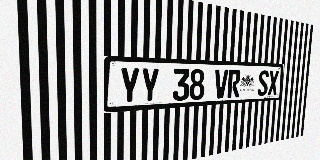3: (173, 68, 190, 101)
8: (189, 69, 205, 100)
R: (227, 70, 241, 98)
S: (257, 70, 269, 96)
V: (214, 69, 228, 99)
X: (268, 70, 279, 95)
Y: (119, 67, 140, 104), (140, 68, 160, 103)
